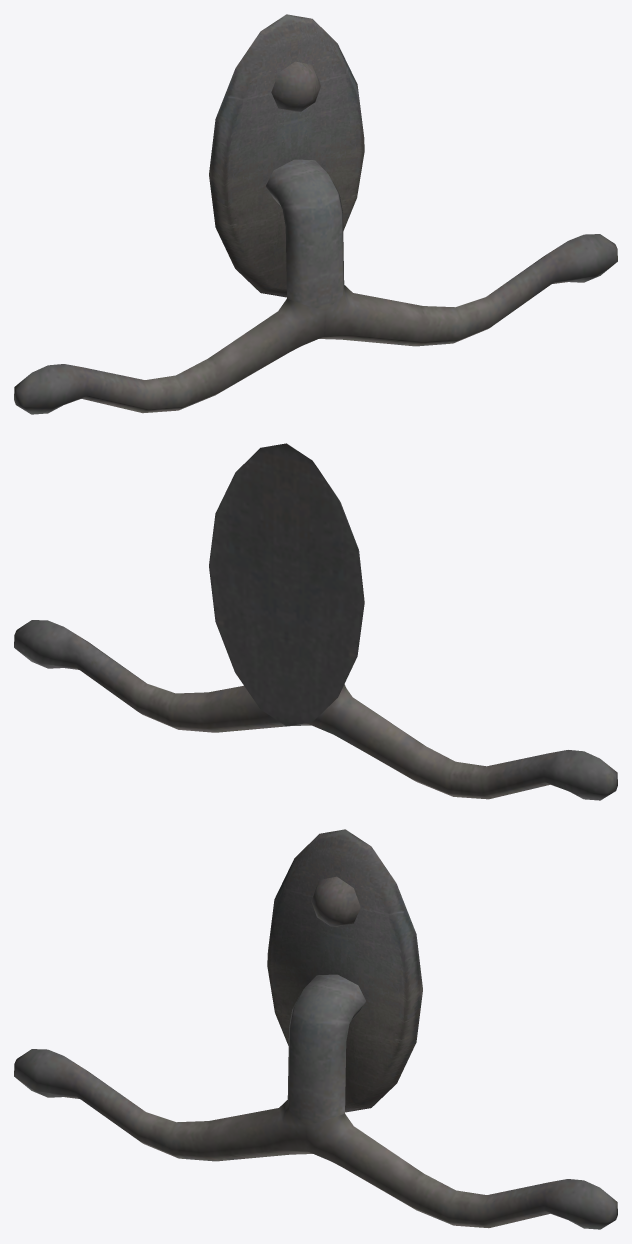
The model's file is coat_hook_double.dae.
3 renders of one model, top to bottom at view 1: azimuth 30°, elevation 25°; view 2: azimuth 150°, elevation 25°; view 3: azimuth 330°, elevation 25°, orthographic.
Visible parts, largest first — view 1: coat_hook_double; view 2: coat_hook_double; view 3: coat_hook_double.
Boxes of the visible parts, x1,y1,x2,y2 form: coat_hook_double: (14,14,617,414); coat_hook_double: (14,443,617,800); coat_hook_double: (14,829,617,1229).
Bounding box in the file's own units: 7 × 3.81 × 0.7942.
